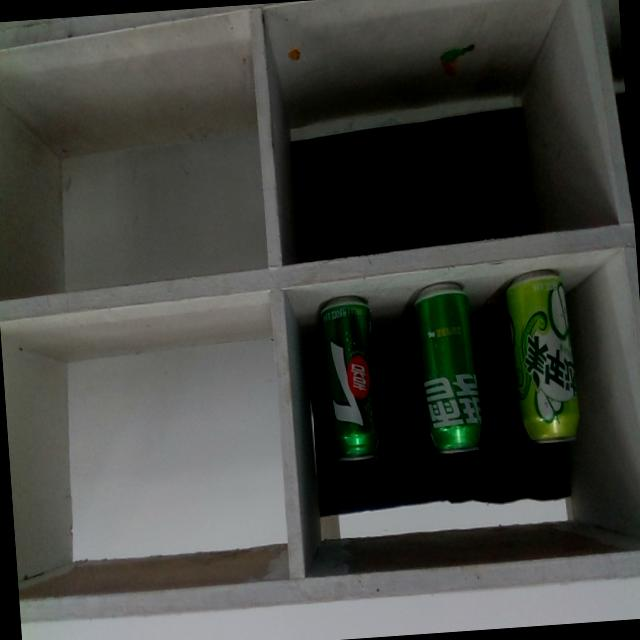can: (502, 264, 584, 450), (407, 276, 486, 464), (314, 292, 388, 469)
